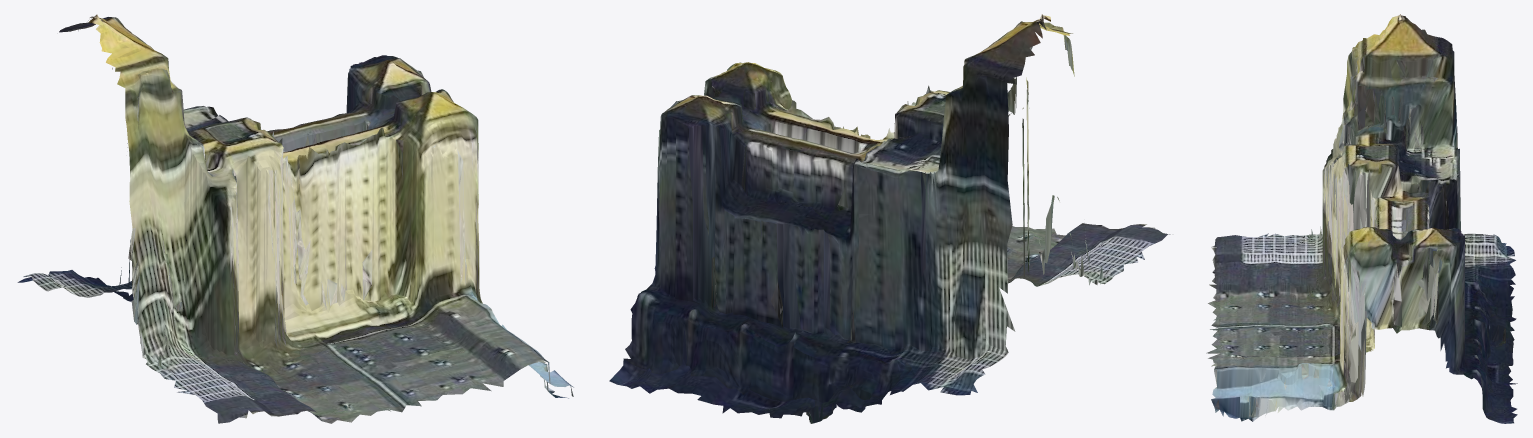
The model's file is Tile_002_002_L14_4112.glb.
3 renders of one model, left to right at view 1: azimuth 30°, elevation 25°; view 2: azimuth 150°, elevation 25°; view 3: azimuth 270°, elevation 25°, orthographic. The views are drawn at different scales.
Parts seen in each view (by area): view 1: rtc; view 2: rtc; view 3: rtc.
Part boxes in pixels (x1=…): rtc: x1=17, y1=14, x2=573, y2=423; rtc: x1=609, y1=14, x2=1170, y2=423; rtc: x1=1206, y1=14, x2=1517, y2=423.
Bounding box in the file's own units: 88.24 × 90.47 × 89.19.
Materials: 1 (1 with a texture image).
